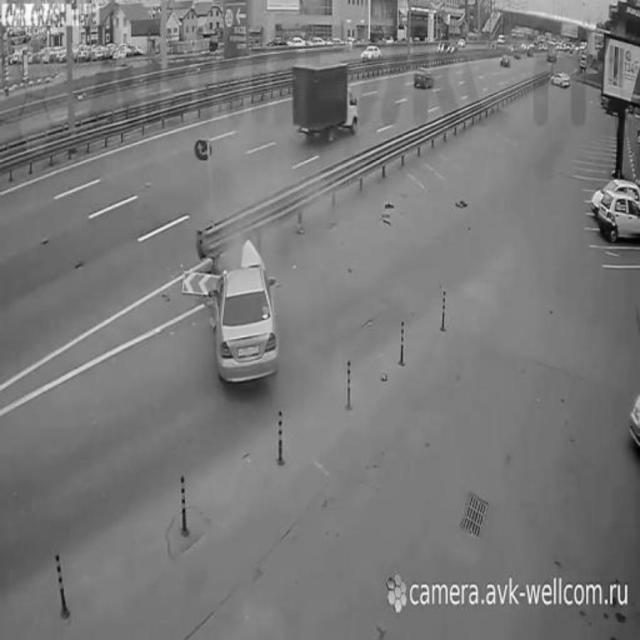vehicle: (214, 262, 278, 388), (290, 62, 358, 140), (595, 192, 640, 243), (414, 63, 434, 93), (550, 66, 572, 90), (360, 45, 384, 61), (501, 53, 511, 69)
